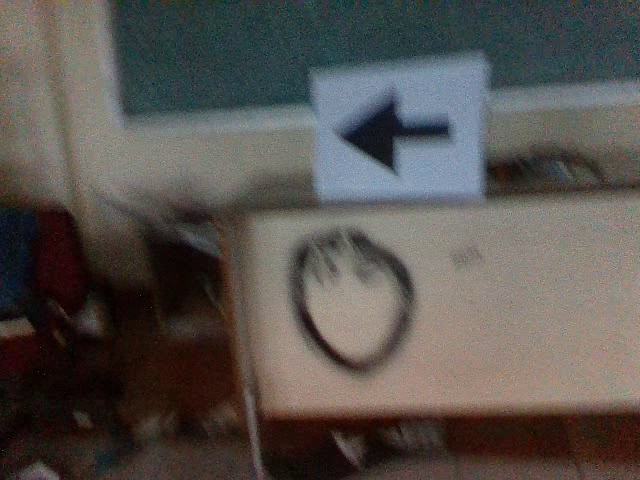Left: (333, 85, 453, 177)
